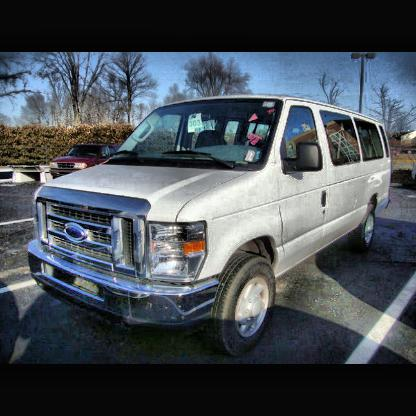Ford E-Series Wagon Van 2012: (29, 96, 392, 342)
